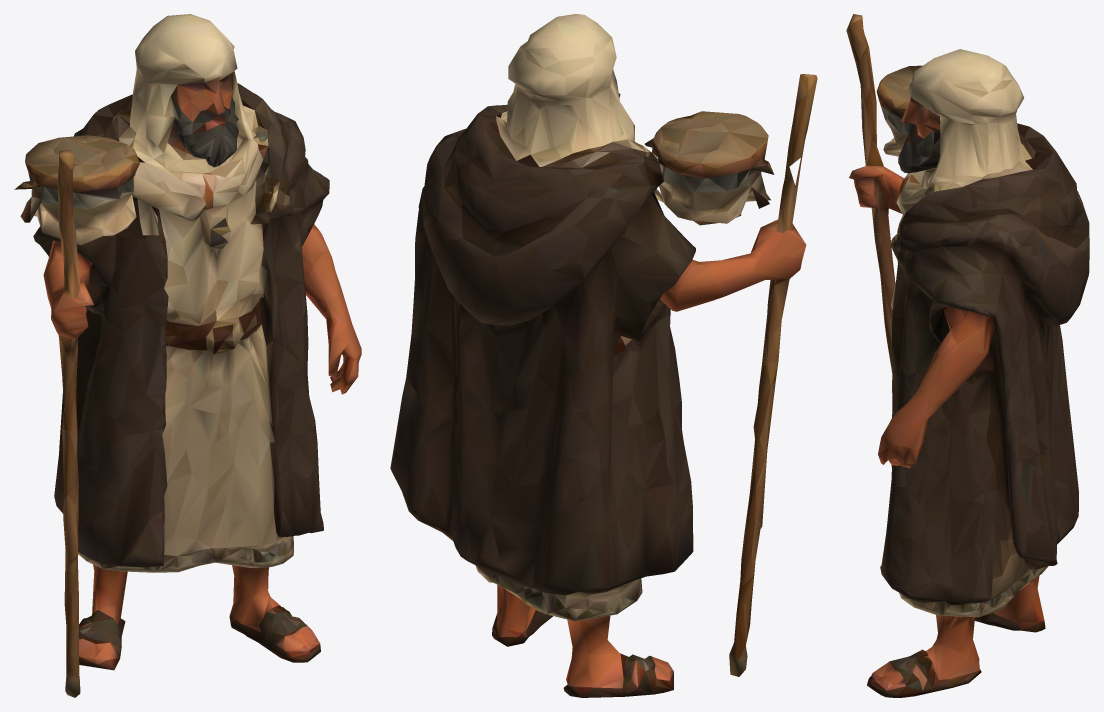
Rendered from c_capofamiglia.glb.
3 views of the same model, side by side, from view 1: azimuth 30°, elevation 25°; view 2: azimuth 150°, elevation 25°; view 3: azimuth 270°, elevation 25° (orthographic). The views are drawn at different scales.
Visible parts, largest first — view 1: geometry_0; view 2: geometry_0; view 3: geometry_0.
Part boxes in pixels (bbox=[...]): geometry_0: bbox=[14, 14, 361, 697]; geometry_0: bbox=[390, 14, 817, 697]; geometry_0: bbox=[846, 14, 1089, 697].
Size of the model in its own units: 0.5438 by 0.9783 by 0.3594.
1 material, 1 textured.
